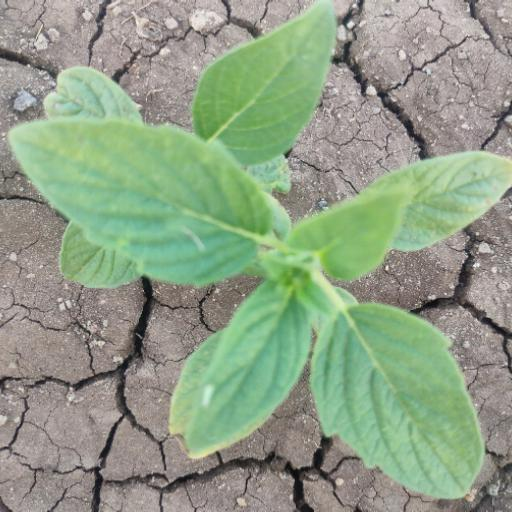crop: (12, 13, 502, 495)
